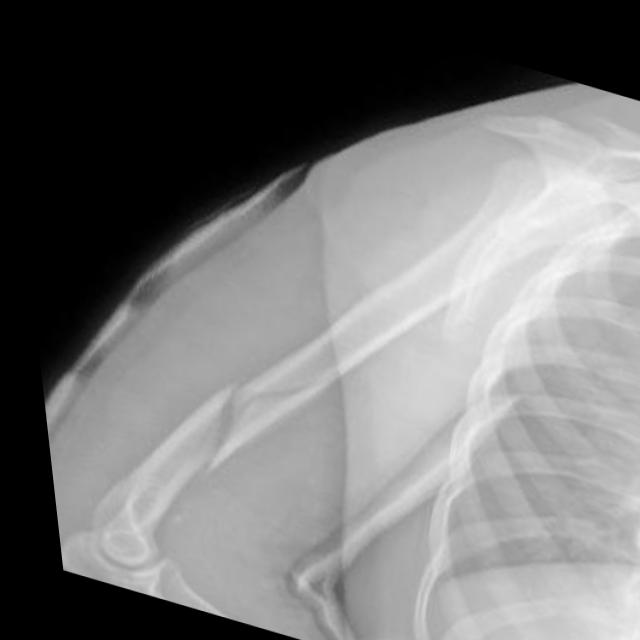fracture: (163, 354, 255, 485)
